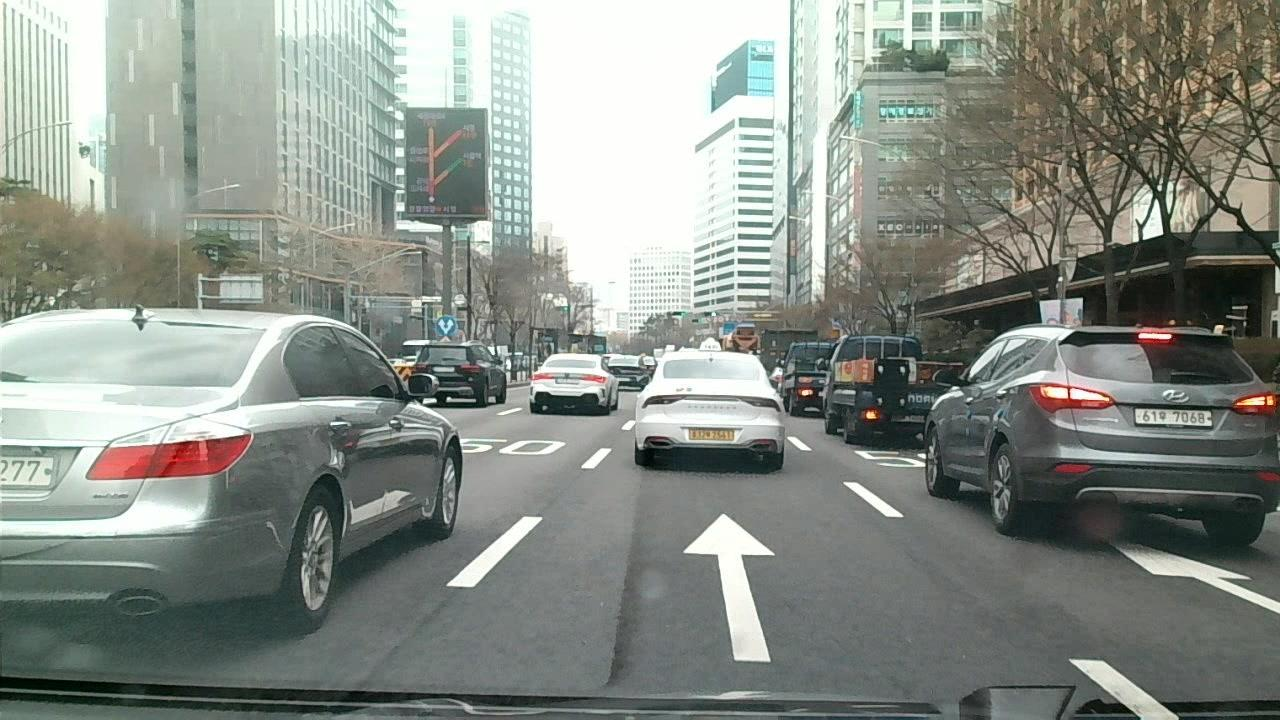vcrack: (603, 465, 649, 687)
